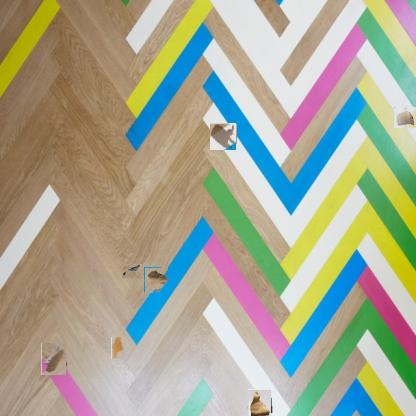dirty: (40, 345, 68, 374), (246, 390, 272, 416), (144, 267, 168, 293), (394, 107, 416, 130), (122, 264, 142, 278)
liquid: (210, 124, 237, 150), (111, 337, 124, 359)
